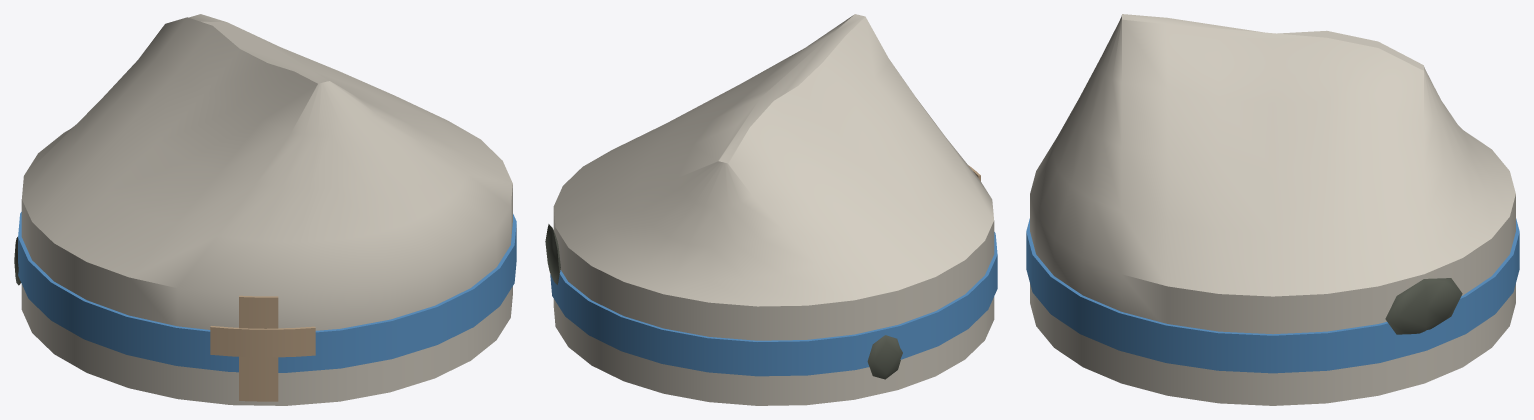
File: hat_paper_cap.glb
3 views of the same model, side by side, from view 1: azimuth 30°, elevation 25°; view 2: azimuth 150°, elevation 25°; view 3: azimuth 270°, elevation 25° (orthographic). The views are drawn at different scales.
Visible parts, largest first — view 1: Hat; view 2: Hat; view 3: Hat.
Part boxes in pixels (x1,y1,x2,y2): Hat: [14, 14, 516, 405]; Hat: [545, 14, 997, 405]; Hat: [1026, 14, 1519, 405].
Size of the model in its own units: 0.654 by 0.405 by 0.654.
